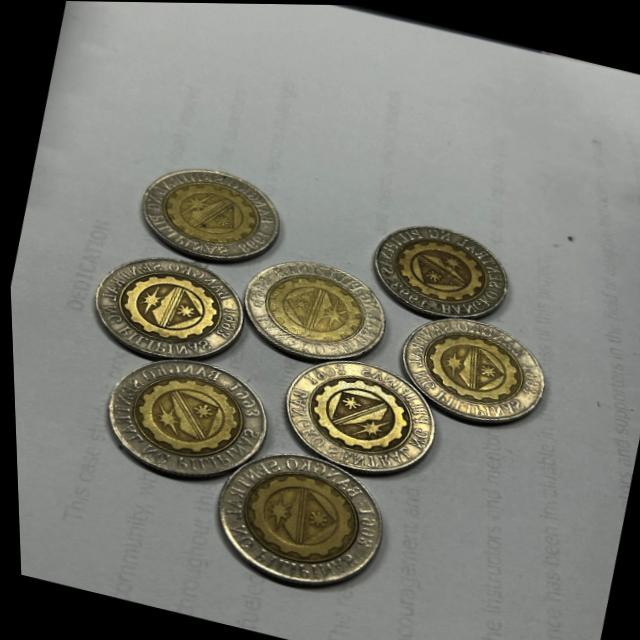10_Old_Back: (220, 451, 377, 581), (108, 345, 254, 474), (97, 251, 236, 372), (142, 156, 281, 265), (400, 310, 540, 418), (290, 356, 426, 462), (242, 248, 371, 356), (372, 222, 506, 320)
